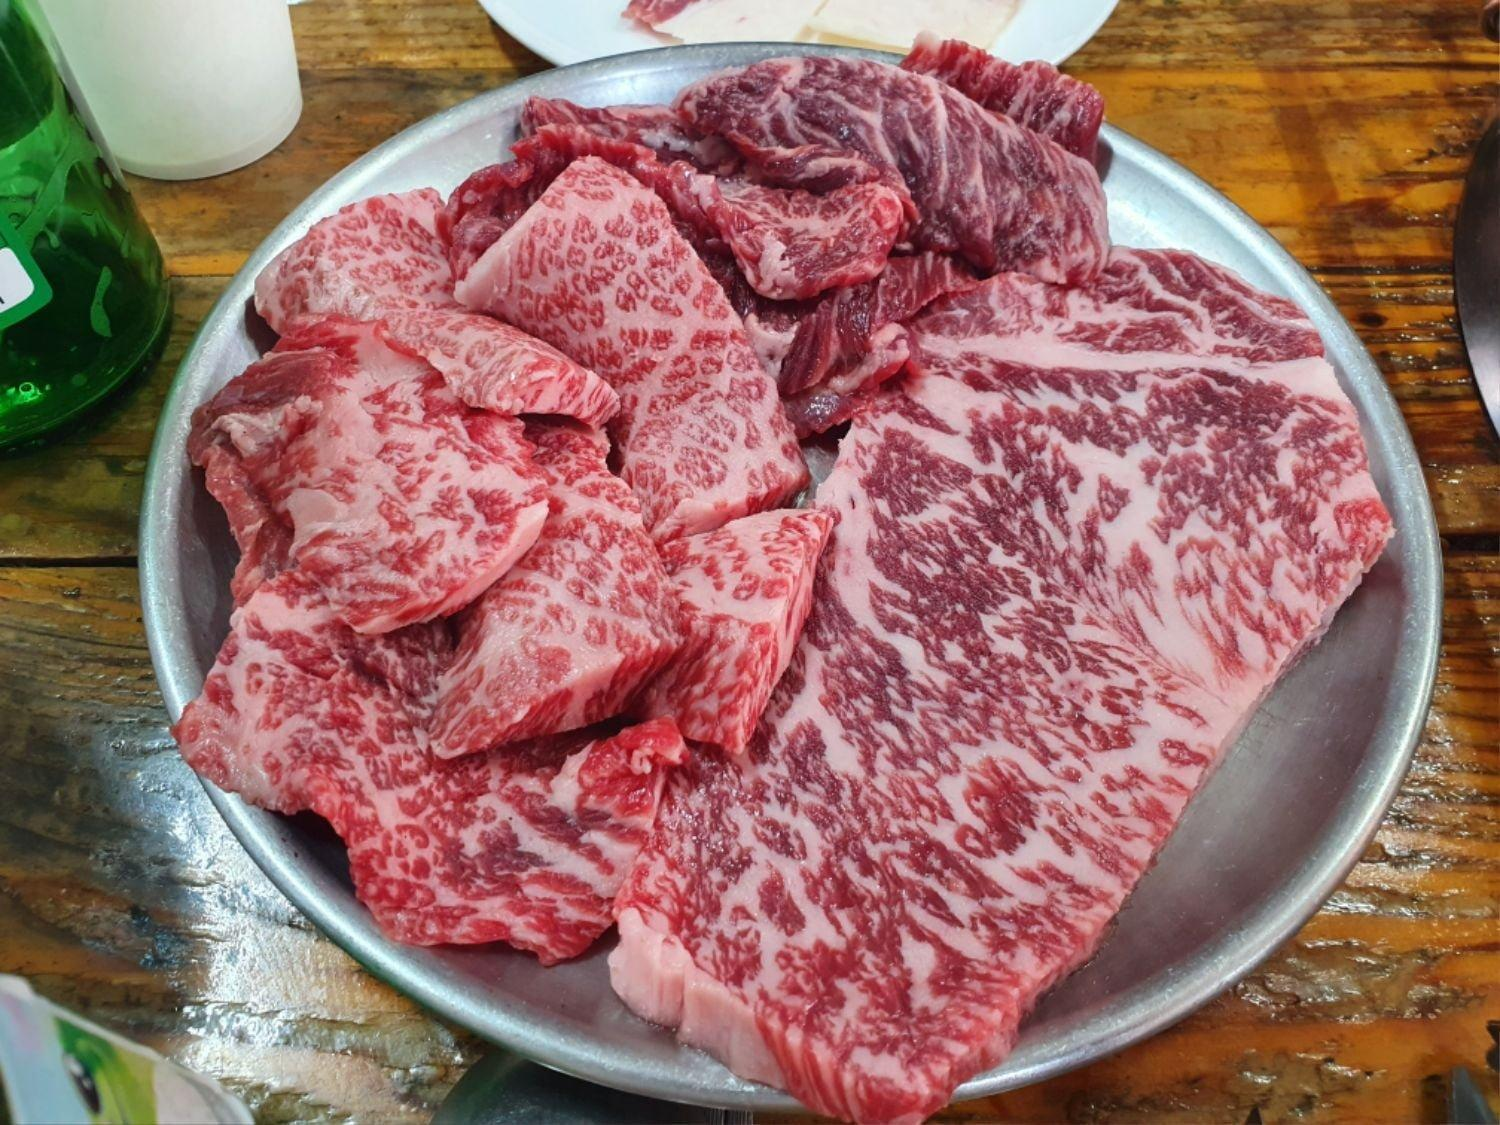beef: (645, 577, 1500, 1125), (998, 142, 1500, 714), (1142, 787, 1500, 1125)
